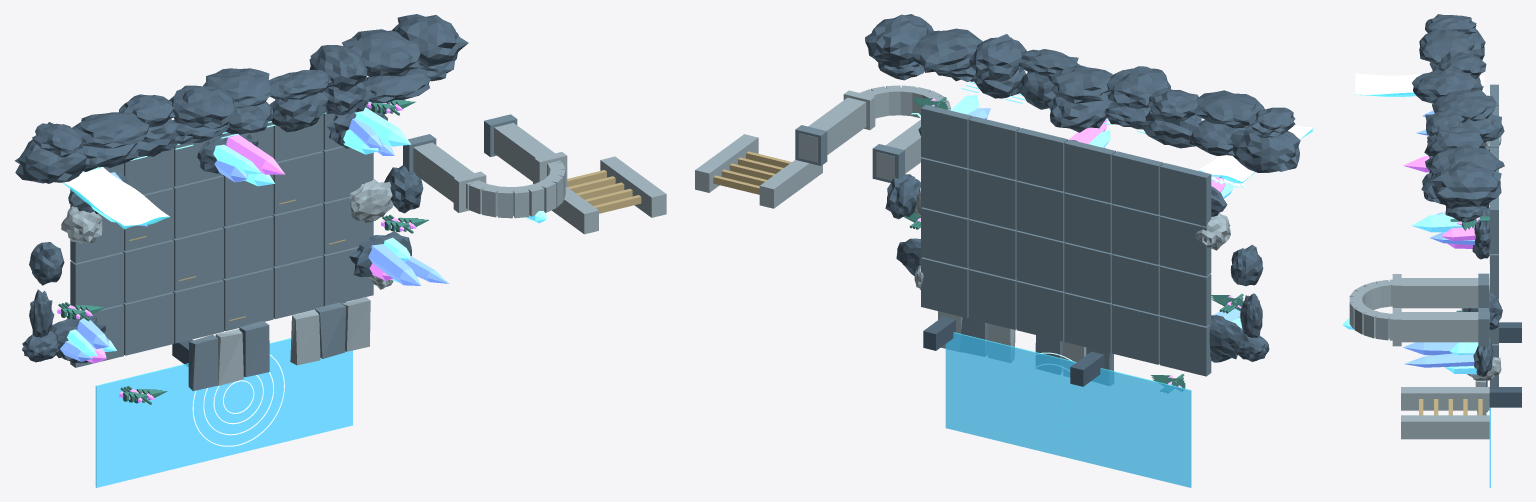
Rendered from floor2-water-source-quality-v3.glb.
3 views of the same model, side by side, from view 1: azimuth 30°, elevation 25°; view 2: azimuth 150°, elevation 25°; view 3: azimuth 270°, elevation 25° (orthographic). The views are drawn at different scales.
Parts seen in each view (by area): view 1: Water_Plane_Transparent, Waterfall_Sheet_2, Floor_Slab_4_1, Floor_Slab_4_0, Floor_Slab_2_2, Floor_Slab_3_1, Floor_Slab_1_0, Floor_Slab_1_1, Floor_Slab_2_0, Floor_Slab_0_1, Floor_Slab_2_1, Floor_Slab_3_0 (+50 smaller); view 2: Water_Plane_Transparent, Floor_Slab_0_3, Floor_Slab_4_3, Floor_Slab_3_3, Floor_Slab_0_1, Floor_Slab_2_3, Floor_Slab_1_3, Floor_Slab_5_3, Floor_Slab_0_0, Floor_Slab_3_0, Floor_Slab_4_1, Floor_Slab_4_2 (+48 smaller); view 3: Cavern_Wall_Boulder_17, Ancient_Arch_Pier_0, Ancient_Arch_Pier_1, Water_Gate_Pillar_14.2, Water_Gate_Pillar_11.7, Cavern_Wall_Boulder_12, Cavern_Wall_Boulder_13, Cavern_Wall_Boulder_16, Cavern_Wall_Boulder_10, Waterfall_Sheet_2, Cavern_Wall_Boulder_15, Cavern_Wall_Boulder_11 (+31 smaller).
Part boxes in pixels (box(x1,y1,x2,y2)): Water_Plane_Transparent: box(95, 338, 352, 487); Waterfall_Sheet_2: box(63, 167, 169, 225); Floor_Slab_4_1: box(272, 203, 323, 266); Floor_Slab_4_0: box(272, 255, 323, 319); Floor_Slab_2_2: box(173, 175, 223, 238); Floor_Slab_3_1: box(223, 215, 273, 278); Floor_Slab_1_0: box(123, 292, 173, 355); Floor_Slab_1_1: box(123, 240, 173, 303); Floor_Slab_2_0: box(173, 280, 223, 343); Floor_Slab_0_1: box(70, 252, 123, 308); Floor_Slab_2_1: box(173, 227, 223, 291); Floor_Slab_3_0: box(223, 268, 273, 331); Water_Plane_Transparent: box(945, 332, 1191, 487); Floor_Slab_0_3: box(1160, 163, 1211, 226); Floor_Slab_4_3: box(968, 116, 1020, 179); Floor_Slab_3_3: box(1016, 128, 1067, 191); Floor_Slab_0_1: box(1160, 265, 1211, 326); Floor_Slab_2_3: box(1064, 139, 1115, 203); Floor_Slab_1_3: box(1112, 151, 1163, 214); Floor_Slab_5_3: box(921, 104, 972, 168); Floor_Slab_0_0: box(1160, 315, 1211, 376); Floor_Slab_3_0: box(1016, 280, 1065, 341); Floor_Slab_4_1: box(968, 219, 1017, 279); Floor_Slab_4_2: box(968, 169, 1017, 229); Cavern_Wall_Boulder_17: box(1431, 161, 1501, 208); Ancient_Arch_Pier_0: box(1401, 278, 1489, 308); Ancient_Arch_Pier_1: box(1401, 312, 1489, 342); Water_Gate_Pillar_14.2: box(1401, 415, 1489, 439); Water_Gate_Pillar_11.7: box(1401, 387, 1489, 410); Cavern_Wall_Boulder_12: box(1412, 69, 1483, 103); Cavern_Wall_Boulder_13: box(1432, 89, 1496, 122); Cavern_Wall_Boulder_16: box(1428, 144, 1504, 179); Cavern_Wall_Boulder_10: box(1419, 29, 1474, 64); Waterfall_Sheet_2: box(1355, 73, 1484, 94); Cavern_Wall_Boulder_15: box(1427, 126, 1484, 156); Cavern_Wall_Boulder_11: box(1438, 51, 1486, 78).
Size of the model in its own units: 22.78 by 14.21 by 6.7.
